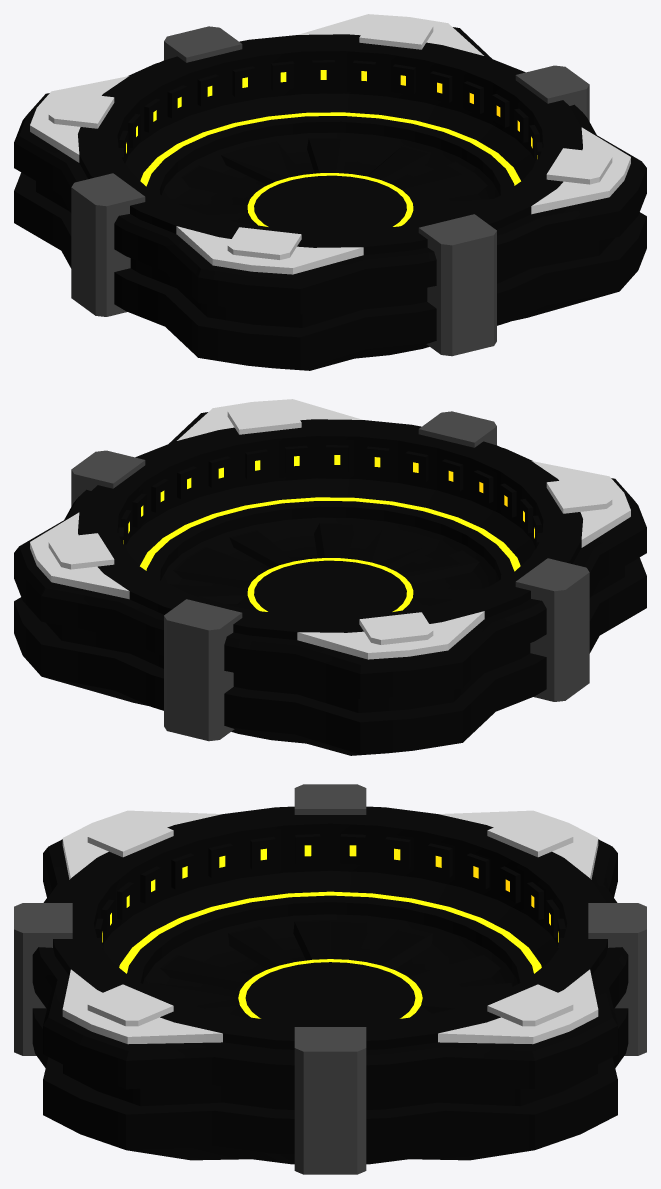
Rendered from 01_yard_heavy.glb.
3 views of the same model, one above another, from view 1: azimuth 30°, elevation 25°; view 2: azimuth 150°, elevation 25°; view 3: azimuth 270°, elevation 25° (orthographic). The views are drawn at different scales.
Parts seen in each view (by area): view 1: 01_yard_heavy; view 2: 01_yard_heavy; view 3: 01_yard_heavy.
Boxes of the visible parts, left/top/right/bottom form: 01_yard_heavy: left=14, top=14, right=646, bottom=370; 01_yard_heavy: left=14, top=399, right=646, bottom=755; 01_yard_heavy: left=14, top=784, right=646, bottom=1174.
Size of the model in its own units: 1 by 0.2806 by 1.
